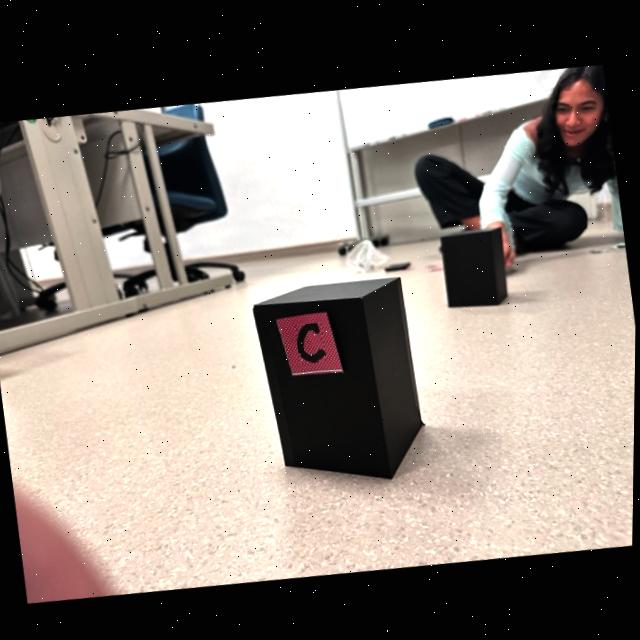C: (299, 321, 326, 359)
